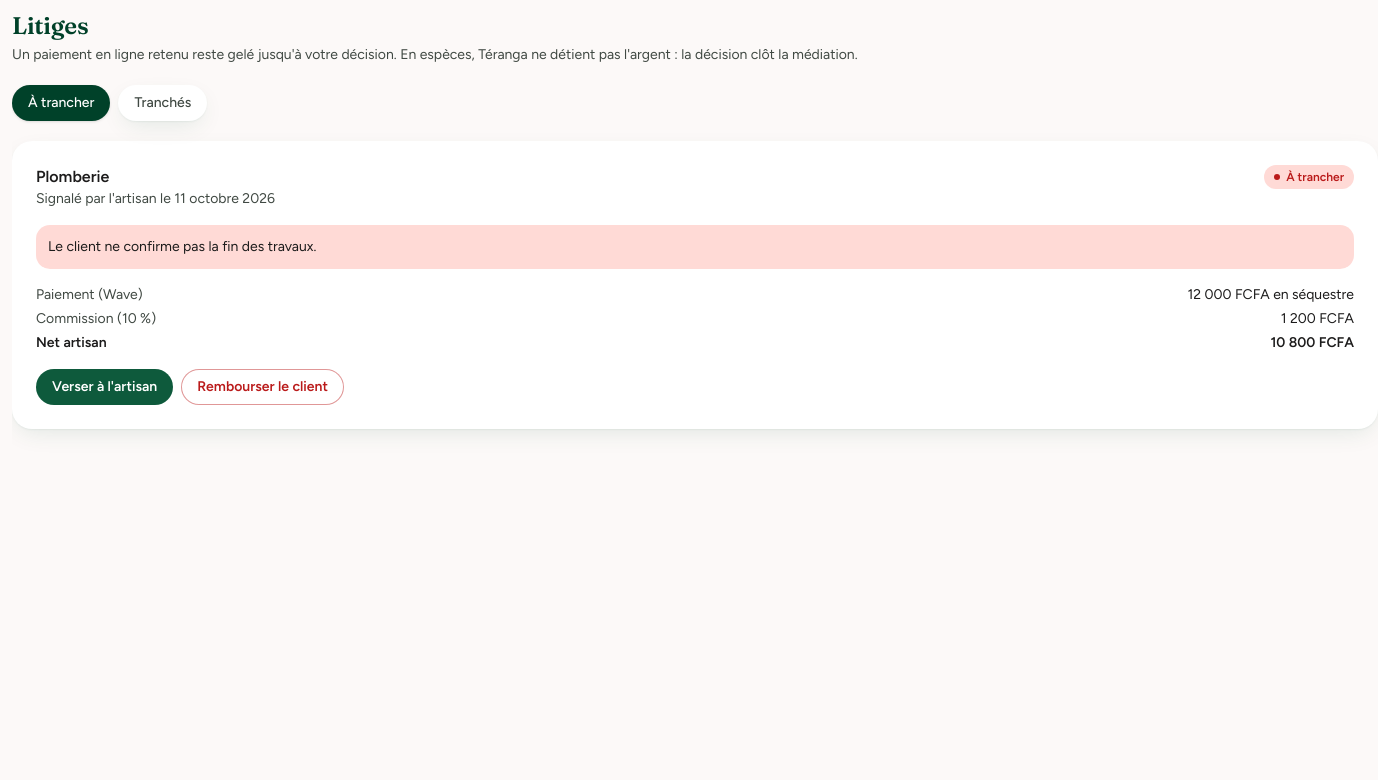
it: AdminDisputesScreen › tranche avec une justification obligatoire, puis retire le litige de la file
This screenshot has width=1378, height=780.
Click the button "Verser à l'artisan".
click(105, 387)  # box [36,369,173,405]
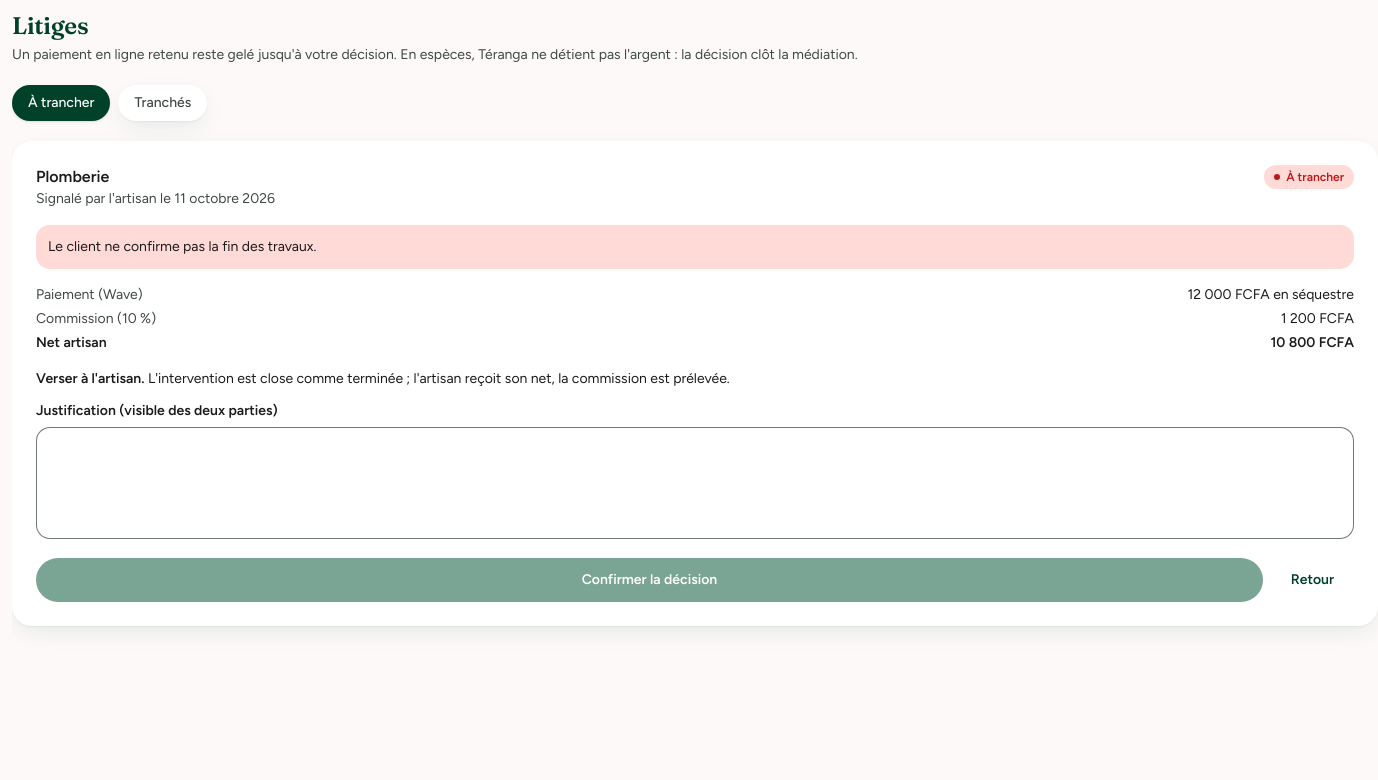
Check: the button "Confirmer la décision" is disabled, box [36,558,1263,602]
Type "Photos des travaux terminés fournies." into the text box labelled "Justification (visible des deux parties)".
click(695, 483); type("Photos des travaux terminés fournies.")  # box [36,427,1354,539]
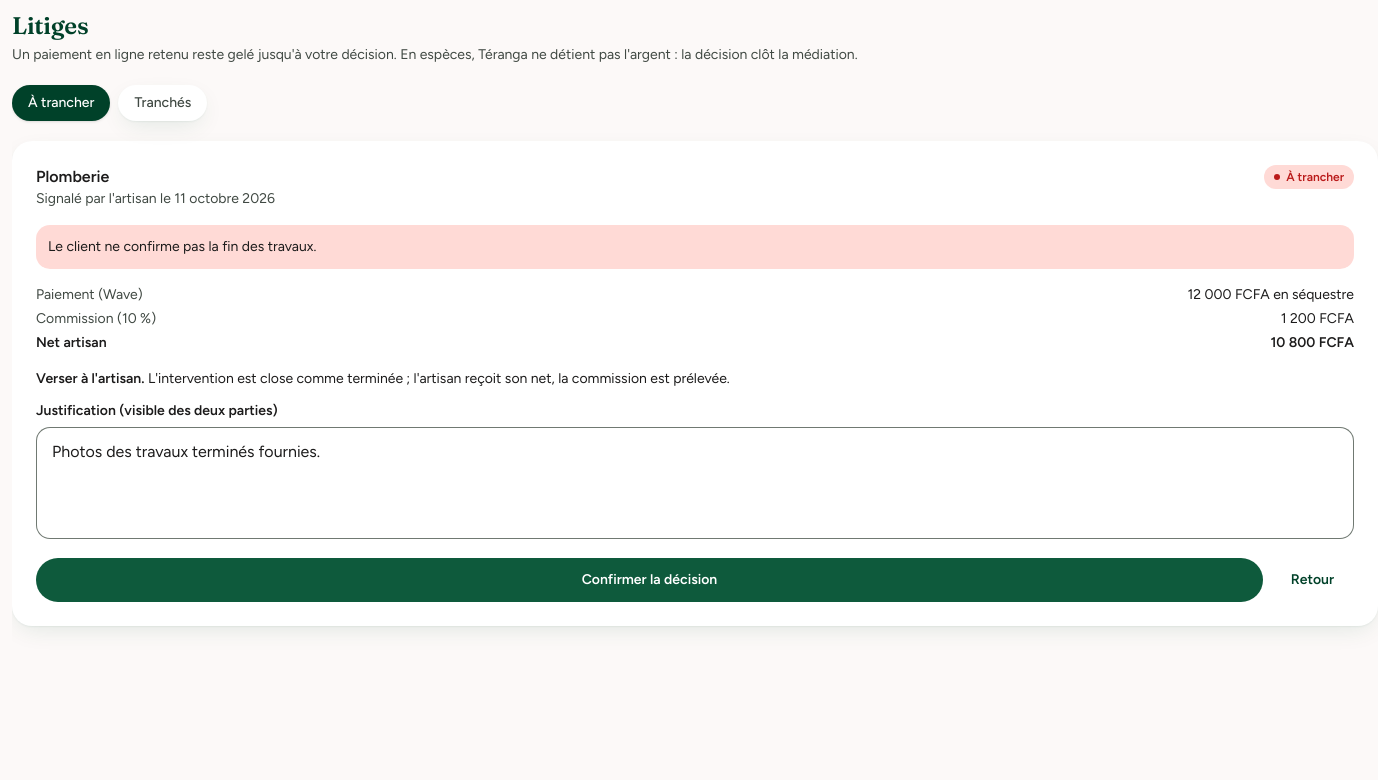
Click the button "Confirmer la décision".
click(649, 580)  # box [36,558,1263,602]
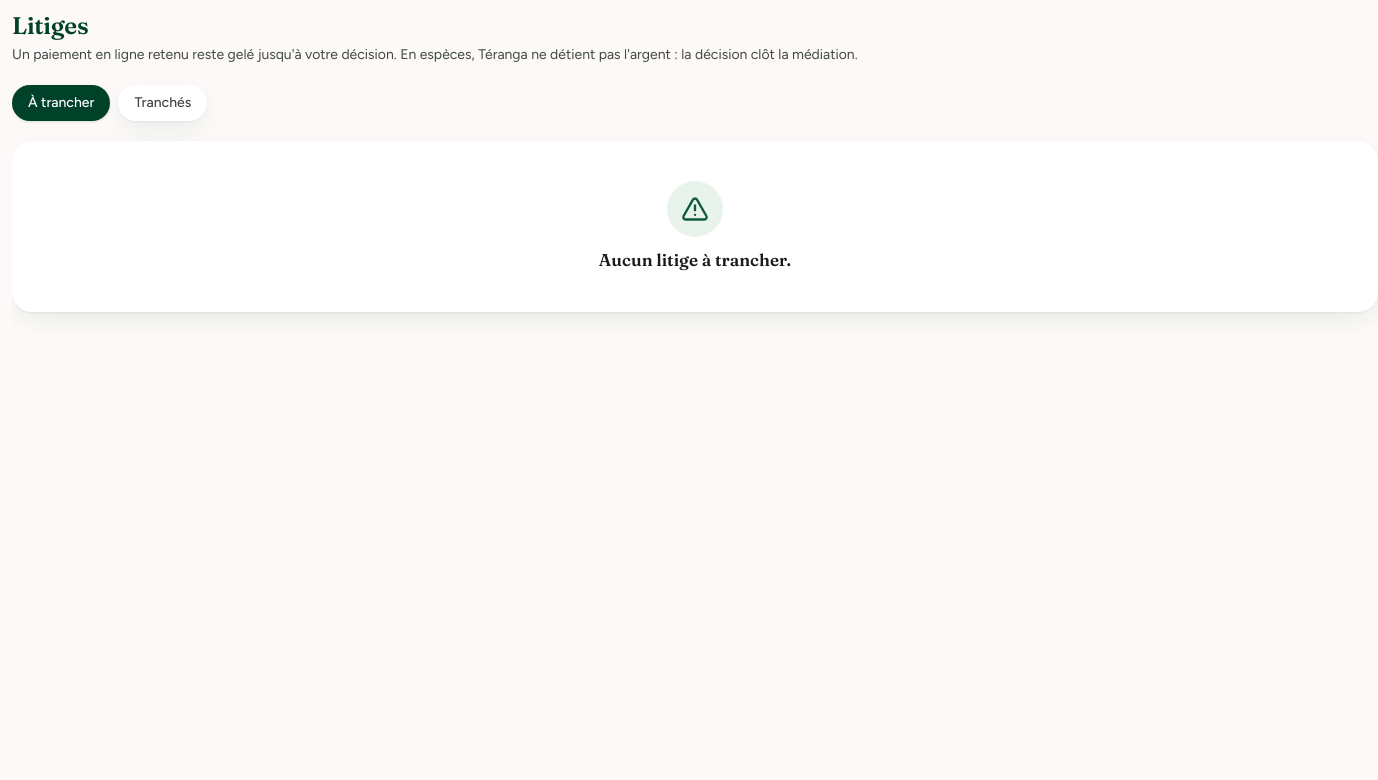
Check: the text "Aucun litige à trancher." is shown, box [599,249,791,272]
